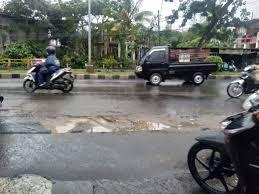Pothole: (0, 97, 239, 147)
